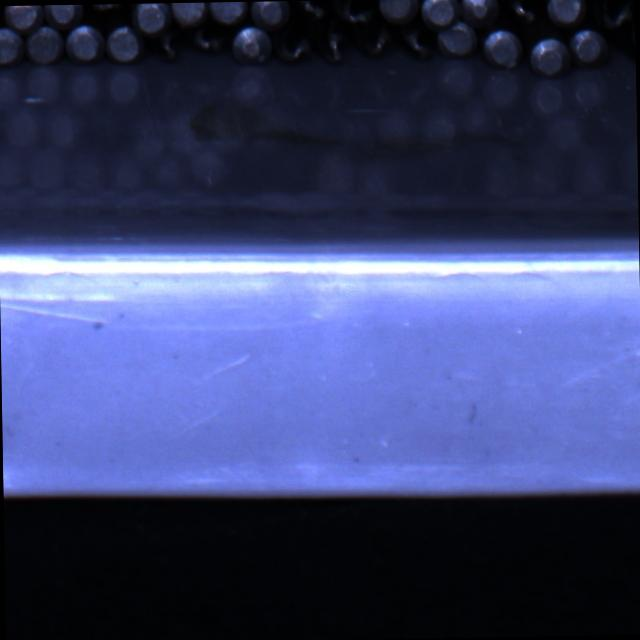tool: (528, 34, 570, 75), (65, 23, 105, 64), (484, 27, 524, 68), (232, 24, 272, 64), (435, 19, 477, 57), (24, 26, 64, 64), (570, 28, 608, 68), (104, 23, 142, 62), (131, 2, 170, 34), (251, 1, 290, 30), (546, 0, 587, 27), (421, 0, 461, 27), (2, 4, 42, 30), (44, 4, 84, 30), (461, 0, 501, 26), (378, 0, 420, 23), (170, 2, 208, 27), (209, 1, 250, 24), (0, 26, 23, 65)
tool_b: (312, 23, 350, 68), (398, 24, 438, 62), (188, 23, 230, 58), (272, 28, 310, 64), (359, 24, 394, 61), (592, 0, 633, 31), (150, 28, 184, 65), (333, 0, 377, 25), (504, 0, 542, 26), (289, 0, 329, 21)
